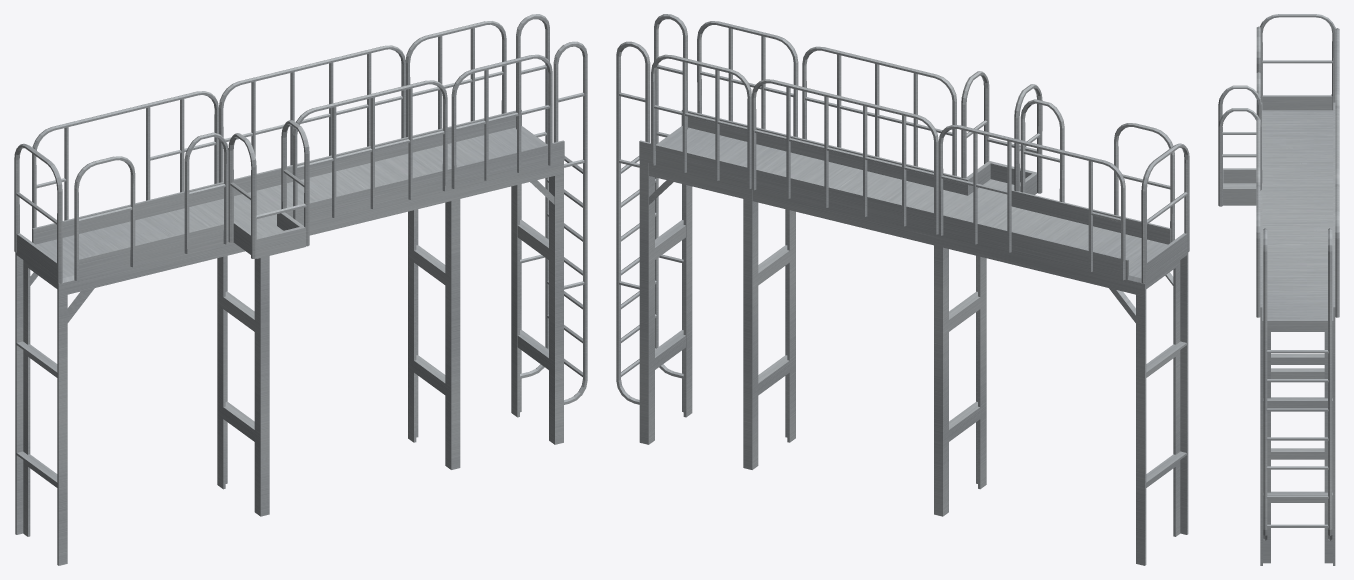
The picture shows the model from 3 angles, left to right: view 1: azimuth 30°, elevation 25°; view 2: azimuth 150°, elevation 25°; view 3: azimuth 270°, elevation 25°; orthographic projection. The views are drawn at different scales.
Visible parts, largest first — view 1: obj_054; view 2: obj_054; view 3: obj_054.
Part boxes in pixels (x1,y1,x2,y2): obj_054: (14, 14, 587, 565); obj_054: (616, 14, 1189, 565); obj_054: (1218, 14, 1339, 565).
Bounding box in the file's own units: 556 × 396 × 128.
